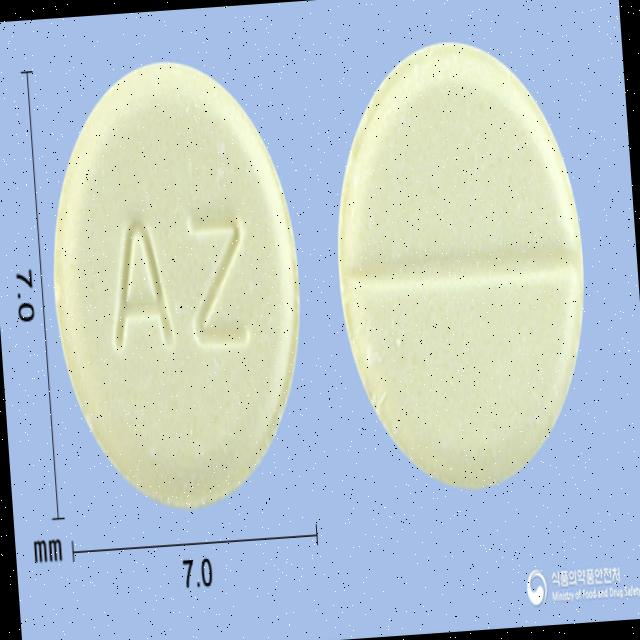Azafrine Tab: (36, 47, 320, 525), (322, 32, 600, 500)
